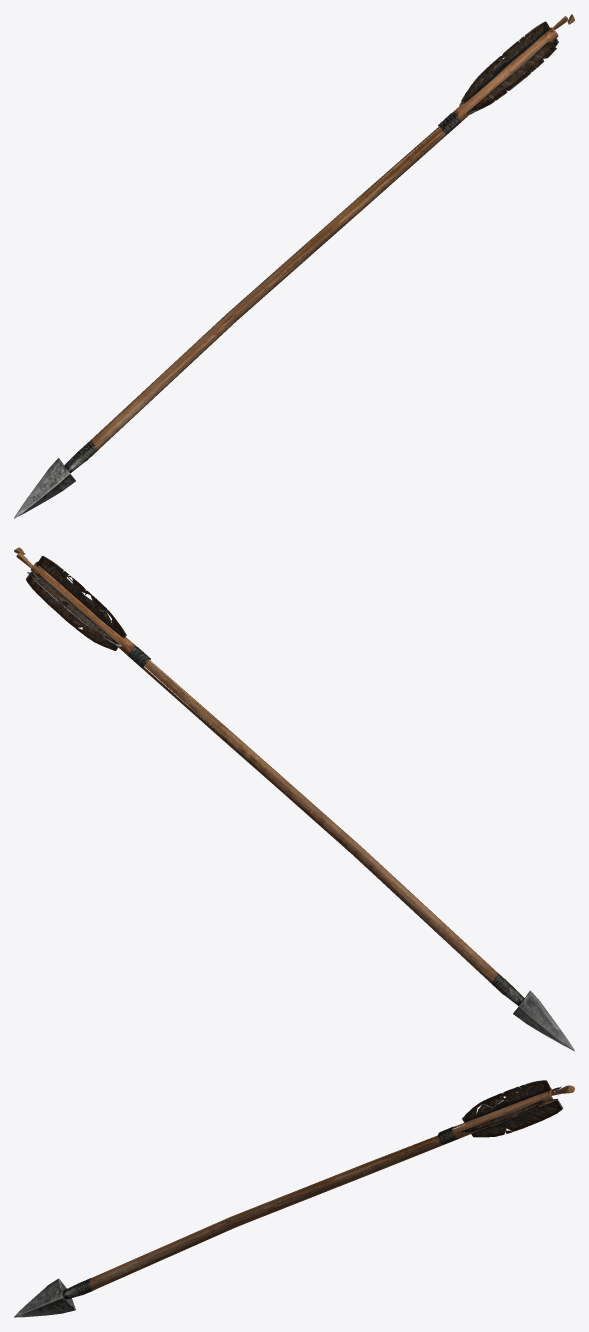
The model's file is arrow.glb.
3 renders of one model, top to bottom at view 1: azimuth 30°, elevation 25°; view 2: azimuth 150°, elevation 25°; view 3: azimuth 330°, elevation 25°, orthographic.
Visible parts, largest first — view 1: tripo_3b339282_2e48_4533_8440_418b68bd284d; view 2: tripo_3b339282_2e48_4533_8440_418b68bd284d; view 3: tripo_3b339282_2e48_4533_8440_418b68bd284d.
Part boxes in pixels (x1,y1,x2,y2): tripo_3b339282_2e48_4533_8440_418b68bd284d: (14, 14, 574, 518); tripo_3b339282_2e48_4533_8440_418b68bd284d: (14, 547, 574, 1051); tripo_3b339282_2e48_4533_8440_418b68bd284d: (14, 1080, 574, 1317).
Size of the model in its own units: 0.9995 by 0.6274 by 0.0679.
Materials: 1 (1 with a texture image).
